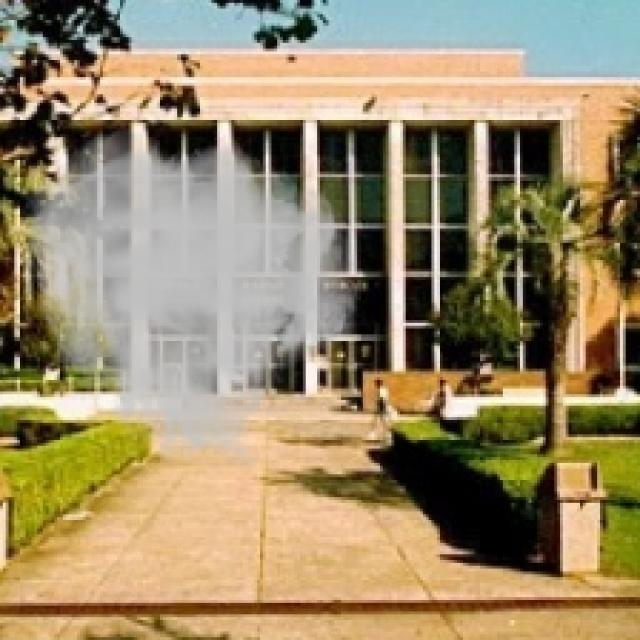smoke: (20, 126, 363, 474)
